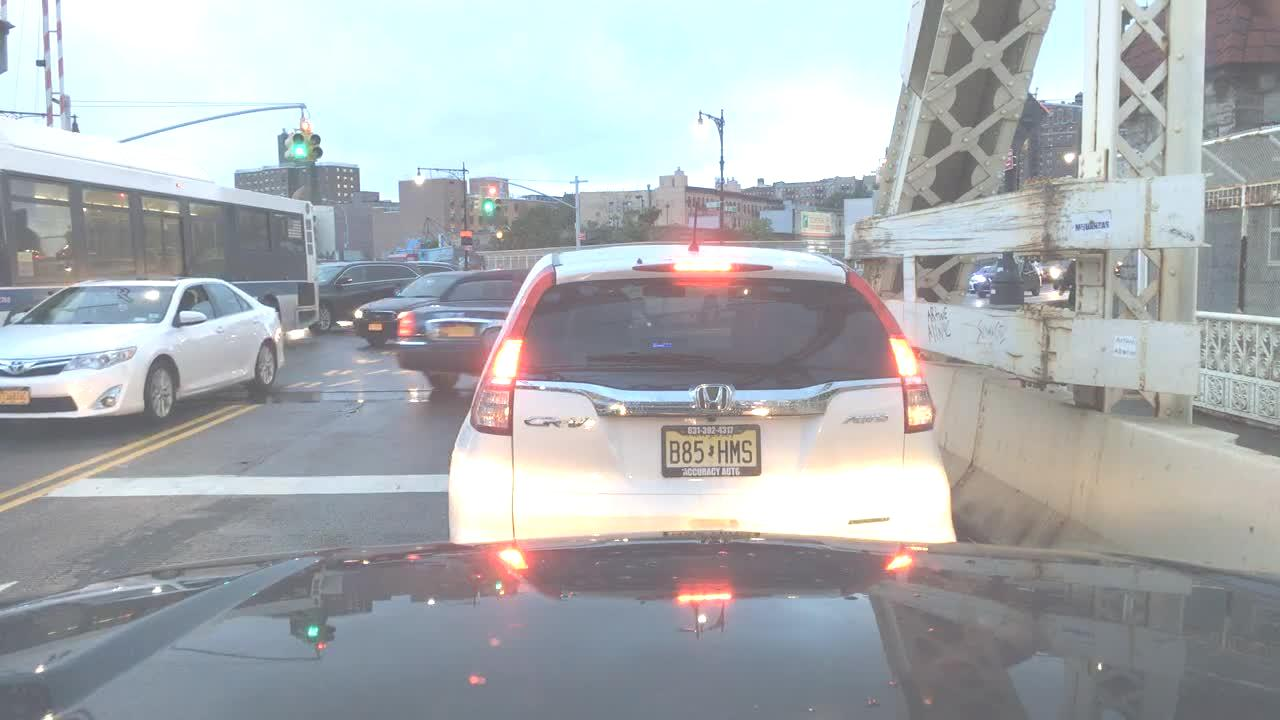Honda: (688, 372, 746, 430)
Toyota: (4, 354, 27, 379)
